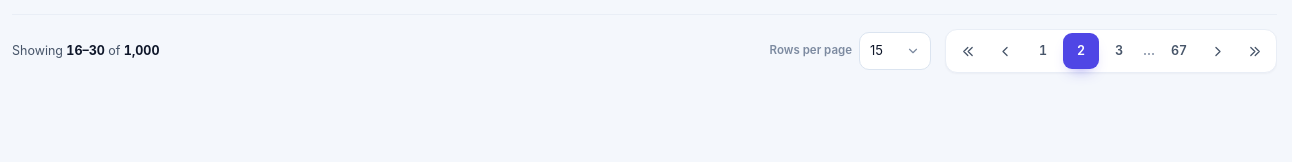
Test case: offers every allowed page size from the rows-per-page select
This screenshot has width=1292, height=162.
What coordinates should you click on to do the following:
click the dropdown named "Rows per page"
I would click on:
 (895, 51)
Its box is left=859, top=32, right=931, bottom=70.
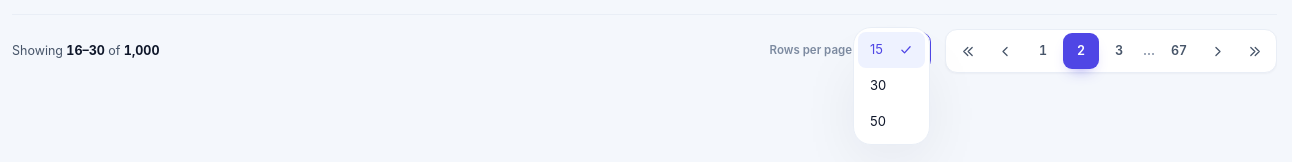
Expected: the option "15" is shown, left=858, top=32, right=925, bottom=68
Expected: the option "30" is shown, left=870, top=77, right=886, bottom=93
Expected: the option "50" is shown, left=870, top=113, right=886, bottom=129
